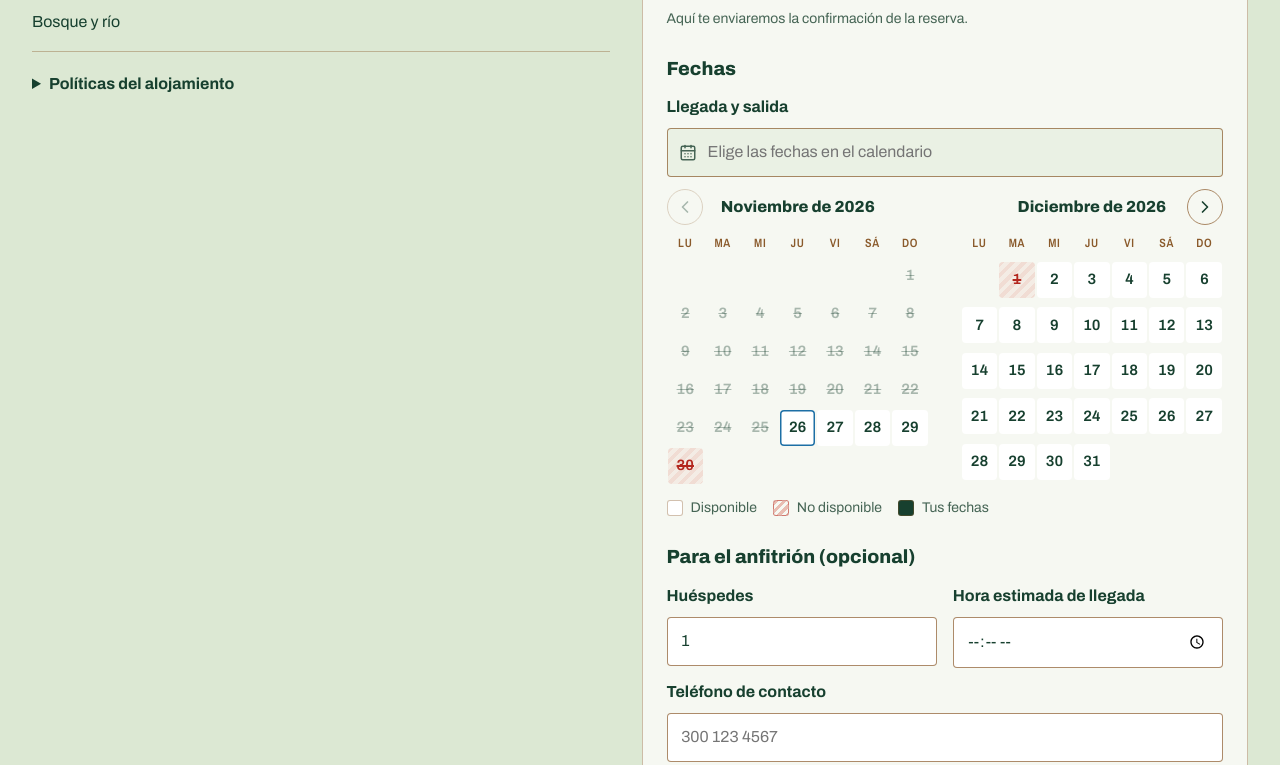
Test: Select dates (#30) › prints the picked range in the dates field and rejects a range with booked days
This screenshot has width=1280, height=765.
(page scrolled)
Click the 1st button "28": (873, 428) [855, 410, 890, 446]
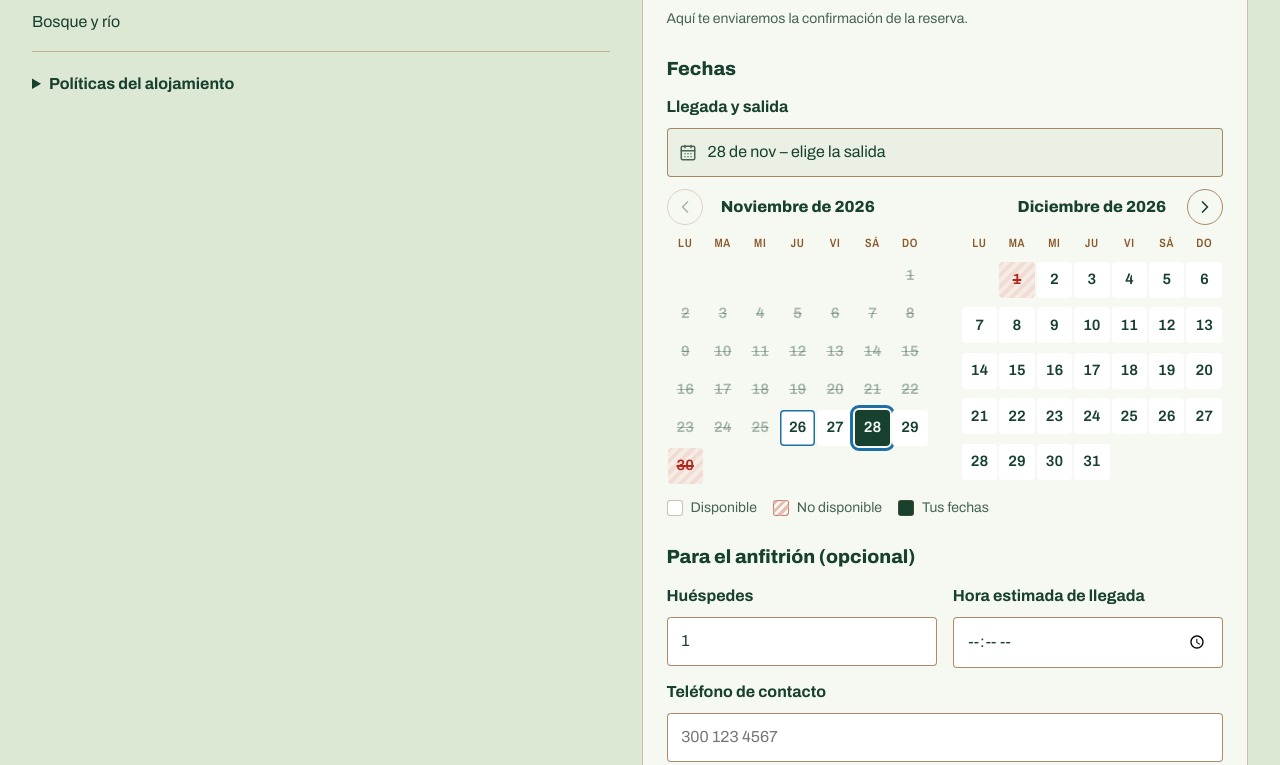
Click the 1st button "4": (1129, 280) [1112, 262, 1147, 298]
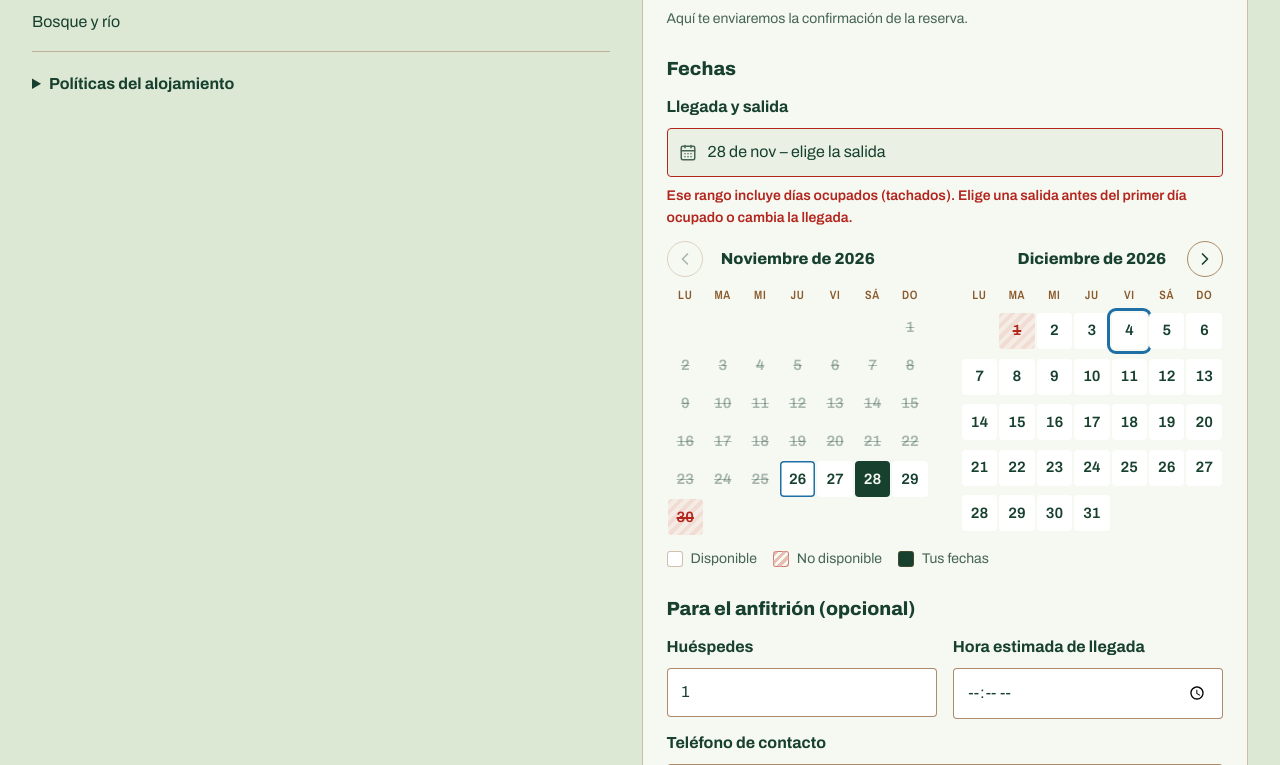
expect the message shows "Ese rango incluye días ocupados": met, box [666, 188, 1186, 225]
Click the 1st button "30": (685, 517) [668, 499, 703, 535]
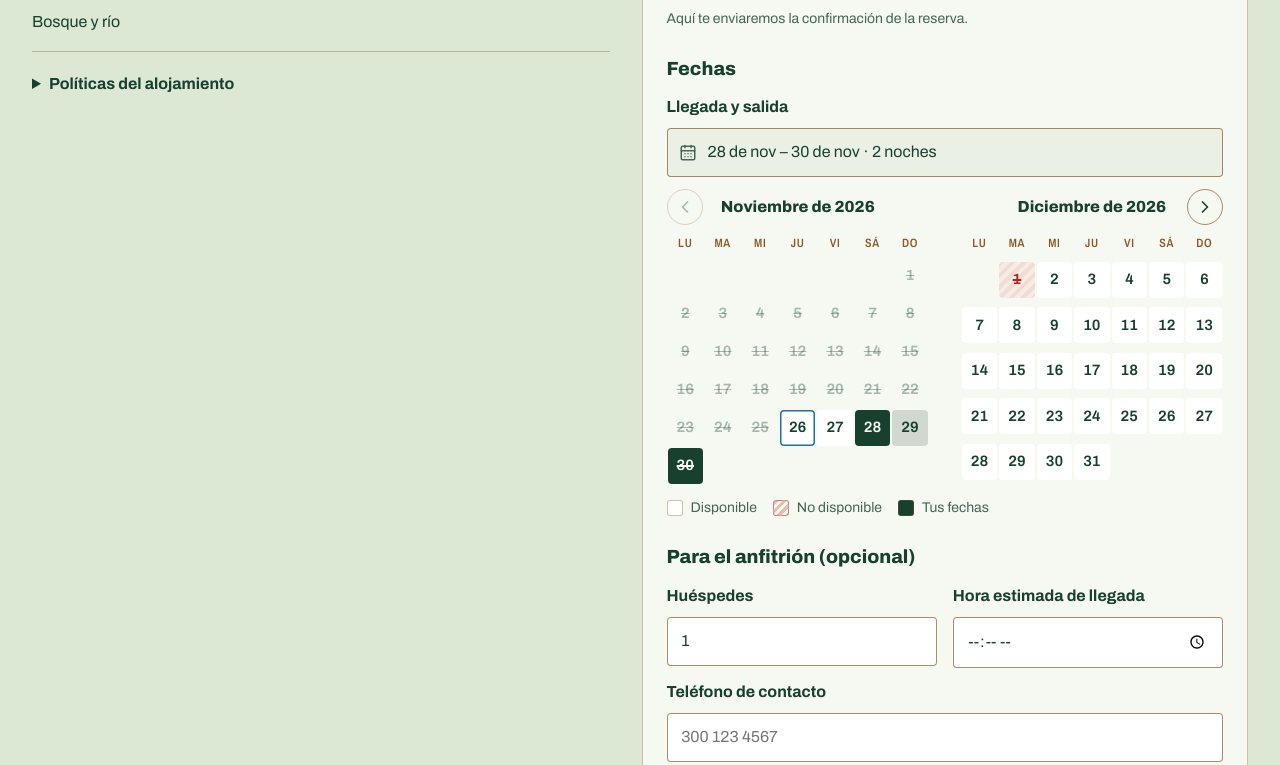
expect the text "Ese rango incluye" is gone: met
